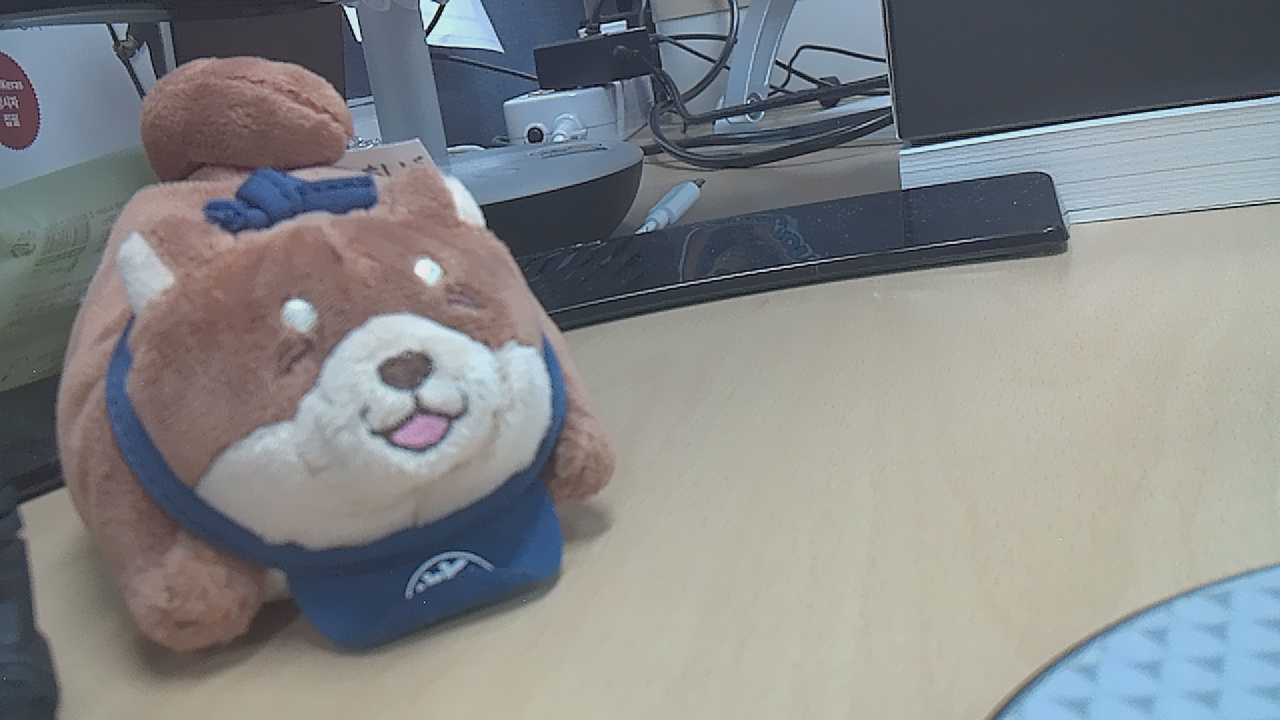cuteDog: (31, 65, 601, 696)
